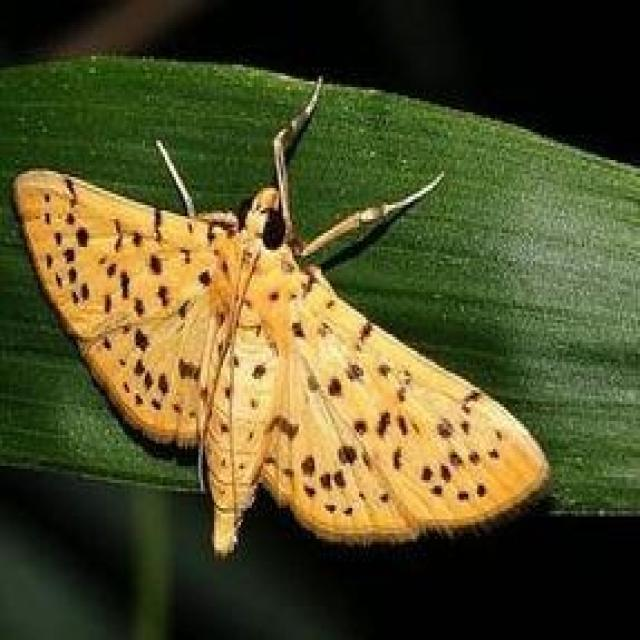peach borer: (12, 75, 547, 561)
